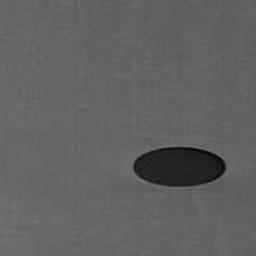Punching: (133, 146, 228, 188)
